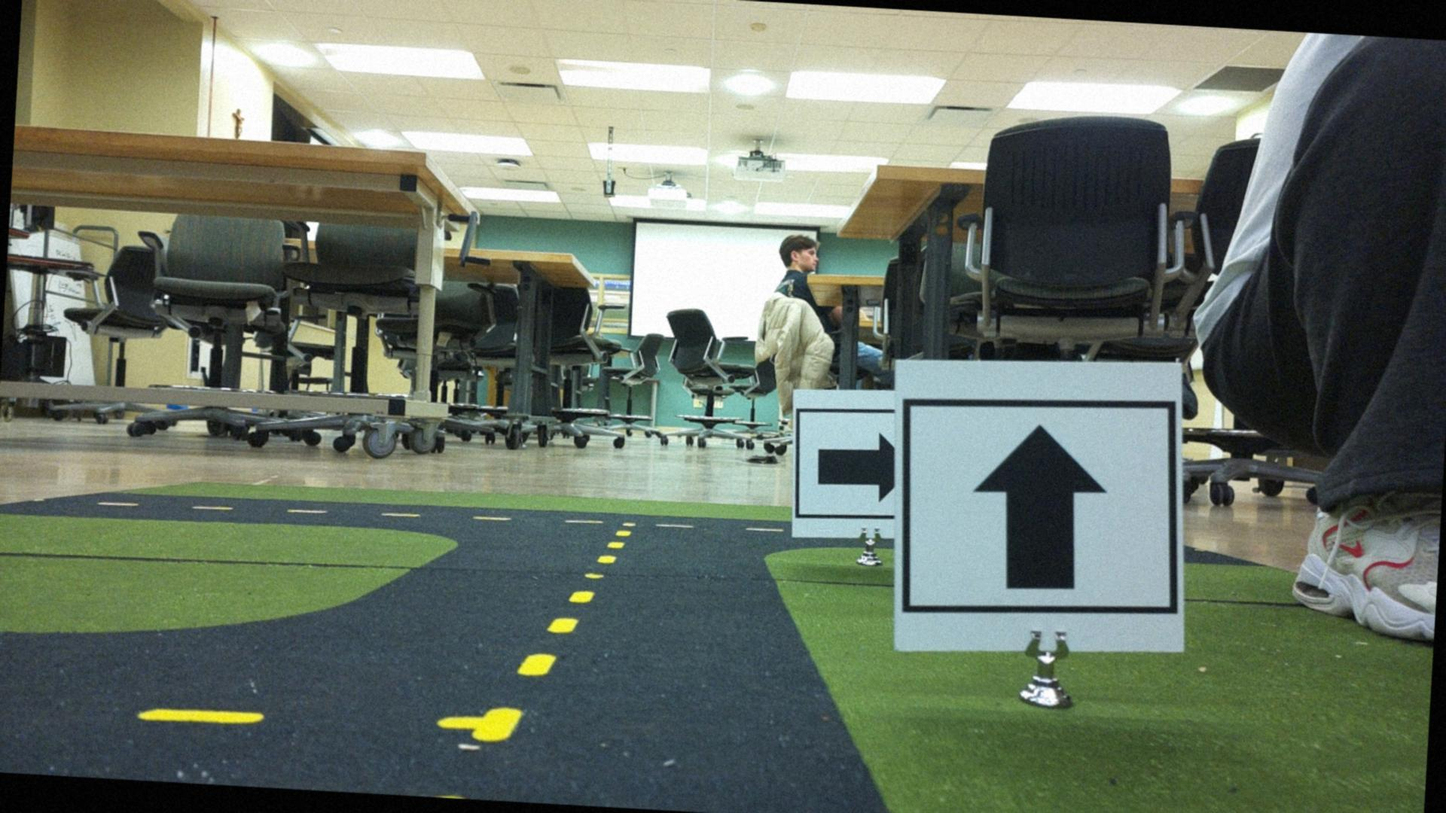gostraight: (903, 358, 1191, 658)
turnleft: (785, 413, 895, 528)
yellowline: (478, 511, 633, 749)
